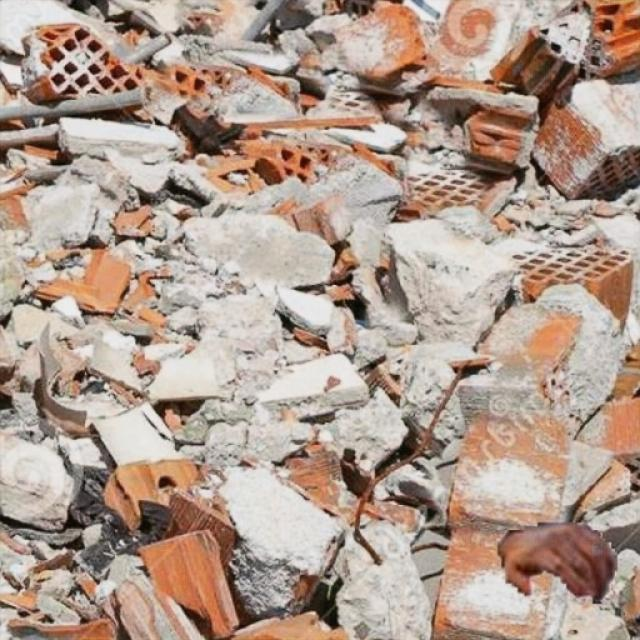Person in Rubble: (498, 522, 616, 602)
